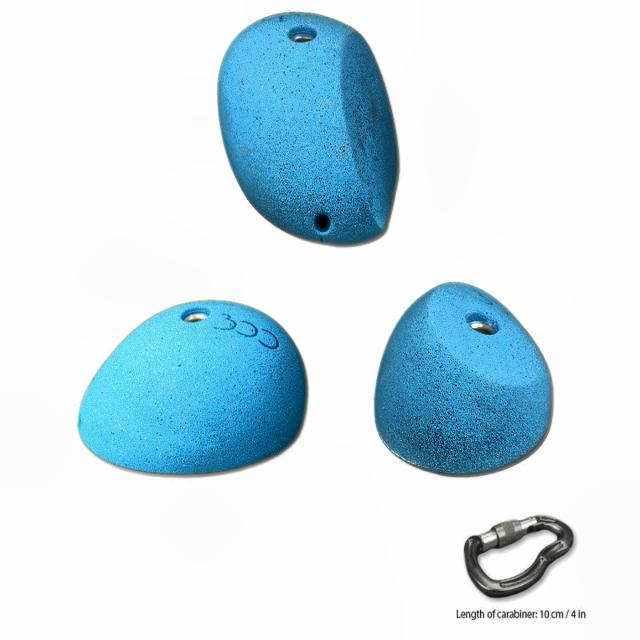Hold: (211, 12, 406, 245), (80, 296, 308, 478), (373, 278, 552, 477)
